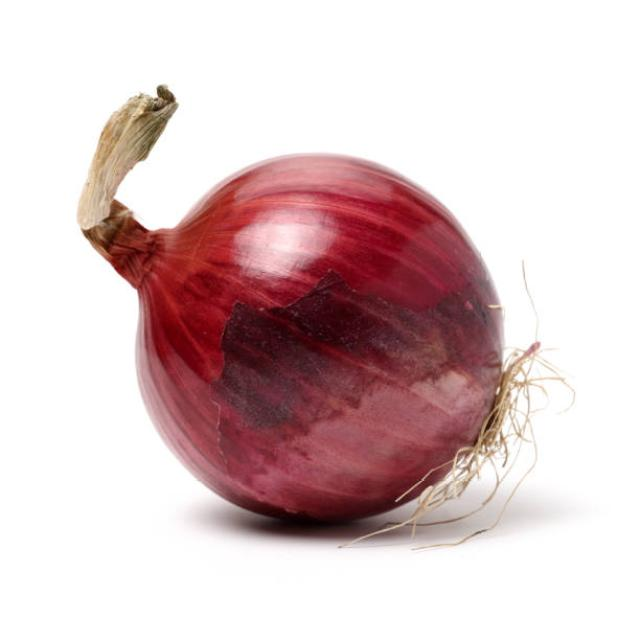onion: (62, 136, 510, 564)
